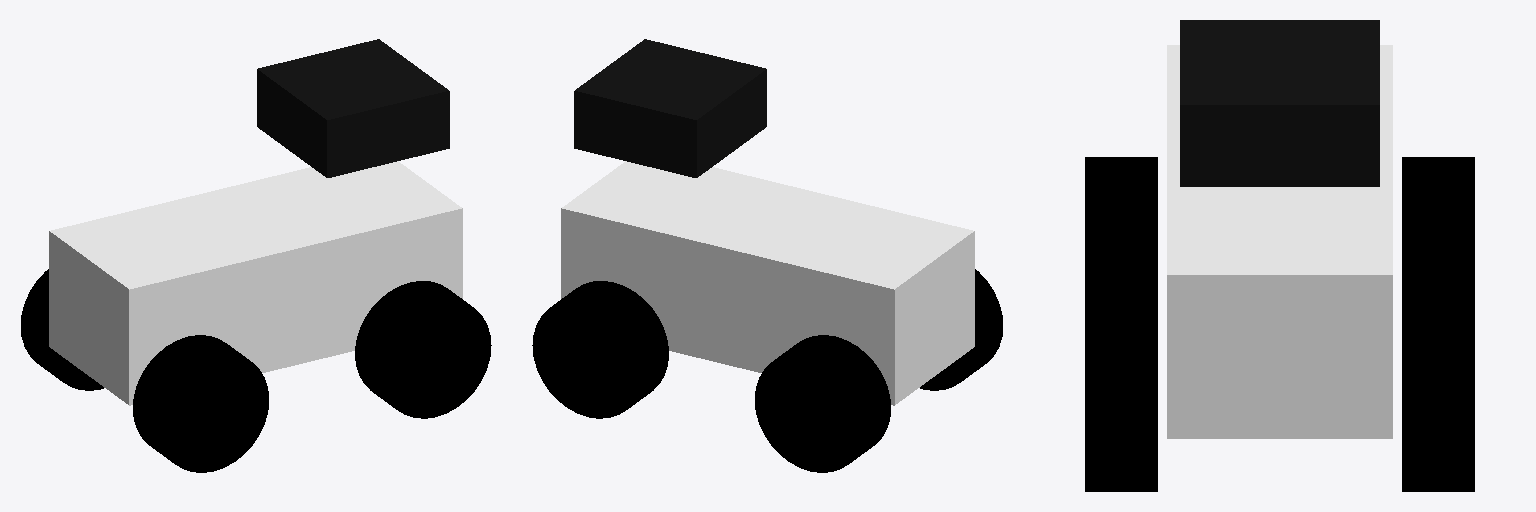
robot.urdf — mid360_robot:
<?xml version="1.0" ?>
<!-- =================================================================================== -->
<!-- |    This document was autogenerated by xacro from /home/ywj/dog_slam/LIO-SAM_MID360_ROS2_PKG/ros2/install/livox_gazebo_garden/share/livox_gazebo_garden/urdf/my_robot/my_robot.xacro | -->
<!-- |    EDITING THIS FILE BY HAND IS NOT RECOMMENDED                                 | -->
<!-- =================================================================================== -->
<robot name="mid360_robot">
  <!-- =============== base link =============== -->
  <link name="base_footprint"/>
  <link name="base_link">
    <visual>
      <origin rpy="0 0 0" xyz="0 0 0"/>
      <geometry>
        <box size="0.24 0.1 0.08"/>
      </geometry>
      <material name="base_link_mat">
        <color rgba="1.0 1.0 1.0 0.5"/>
      </material>
    </visual>
    <collision>
      <origin rpy="0 0 0" xyz="0 0 0"/>
      <geometry>
        <box size="0.24 0.1 0.08"/>
      </geometry>
      <material name="base_link_mat">
        <color rgba="1.0 1.0 1.0 0.5"/>
      </material>
    </collision>
    <inertial>
      <mass value="1.0"/>
      <origin xyz="0 0 0"/>
      <inertia ixx="0.01" ixy="0.0" ixz="0.0" iyy="0.01" iyz="0.0" izz="0.01"/>
    </inertial>
  </link>
  <joint name="base_link_joint" type="fixed">
    <parent link="base_footprint"/>
    <child link="base_link"/>
    <origin rpy="0 0 0" xyz="0 0 0.04"/>
  </joint>
  <!-- =============== base link =============== -->
  <link name="behind_left_wheel">
    <visual>
      <origin rpy="1.57079 0 0" xyz="0 0 0"/>
      <geometry>
        <cylinder length="0.032" radius="0.04"/>
      </geometry>
      <material name="behind_left_wheel_mat">
        <color rgba="0.0 0.0 0.0 1.0"/>
      </material>
    </visual>
    <collision>
      <origin rpy="1.57079 0 0" xyz="0 0 0"/>
      <geometry>
        <cylinder length="0.032" radius="0.04"/>
      </geometry>
      <material name="behind_left_wheel_mat">
        <color rgba="0.0 0.0 0.0 1.0"/>
      </material>
    </collision>
    <inertial>
      <mass value="1.0"/>
      <origin xyz="0 0 0"/>
      <inertia ixx="0.01" ixy="0.0" ixz="0.0" iyy="0.01" iyz="0.0" izz="0.01"/>
    </inertial>
  </link>
  <joint name="behind_left_wheel_joint" type="continuous">
    <parent link="base_link"/>
    <child link="behind_left_wheel"/>
    <origin rpy="0 0 0" xyz="-0.08 0.07 -0.04"/>
    <axis xyz="0 1 0"/>
  </joint>
  <link name="behind_right_wheel">
    <visual>
      <origin rpy="1.57079 0 0" xyz="0 0 0"/>
      <geometry>
        <cylinder length="0.032" radius="0.04"/>
      </geometry>
      <material name="behind_right_wheel_mat">
        <color rgba="0.0 0.0 0.0 1.0"/>
      </material>
    </visual>
    <collision>
      <origin rpy="1.57079 0 0" xyz="0 0 0"/>
      <geometry>
        <cylinder length="0.032" radius="0.04"/>
      </geometry>
      <material name="behind_right_wheel_mat">
        <color rgba="0.0 0.0 0.0 1.0"/>
      </material>
    </collision>
    <inertial>
      <mass value="1.0"/>
      <origin xyz="0 0 0"/>
      <inertia ixx="0.01" ixy="0.0" ixz="0.0" iyy="0.01" iyz="0.0" izz="0.01"/>
    </inertial>
  </link>
  <joint name="behind_right_wheel_joint" type="continuous">
    <parent link="base_link"/>
    <child link="behind_right_wheel"/>
    <origin rpy="0 0 0" xyz="-0.08 -0.07 -0.04"/>
    <axis xyz="0 1 0"/>
  </joint>
  <link name="ahead_left_wheel">
    <visual>
      <origin rpy="1.57079 0 0" xyz="0 0 0"/>
      <geometry>
        <cylinder length="0.032" radius="0.04"/>
      </geometry>
      <material name="ahead_left_wheel_mat">
        <color rgba="0.0 0.0 0.0 1.0"/>
      </material>
    </visual>
    <collision>
      <origin rpy="1.57079 0 0" xyz="0 0 0"/>
      <geometry>
        <cylinder length="0.032" radius="0.04"/>
      </geometry>
      <material name="ahead_left_wheel_mat">
        <color rgba="0.0 0.0 0.0 1.0"/>
      </material>
    </collision>
    <inertial>
      <mass value="1.0"/>
      <origin xyz="0 0 0"/>
      <inertia ixx="0.01" ixy="0.0" ixz="0.0" iyy="0.01" iyz="0.0" izz="0.01"/>
    </inertial>
  </link>
  <joint name="ahead_left_wheel_joint" type="continuous">
    <parent link="base_link"/>
    <child link="ahead_left_wheel"/>
    <origin rpy="0 0 0" xyz="0.08 0.07 -0.04"/>
    <axis xyz="0 1 0"/>
  </joint>
  <link name="ahead_right_wheel">
    <visual>
      <origin rpy="1.57079 0 0" xyz="0 0 0"/>
      <geometry>
        <cylinder length="0.032" radius="0.04"/>
      </geometry>
      <material name="ahead_right_wheel_mat">
        <color rgba="0.0 0.0 0.0 1.0"/>
      </material>
    </visual>
    <collision>
      <origin rpy="1.57079 0 0" xyz="0 0 0"/>
      <geometry>
        <cylinder length="0.032" radius="0.04"/>
      </geometry>
      <material name="ahead_right_wheel_mat">
        <color rgba="0.0 0.0 0.0 1.0"/>
      </material>
    </collision>
    <inertial>
      <mass value="1.0"/>
      <origin xyz="0 0 0"/>
      <inertia ixx="0.01" ixy="0.0" ixz="0.0" iyy="0.01" iyz="0.0" izz="0.01"/>
    </inertial>
  </link>
  <joint name="ahead_right_wheel_joint" type="continuous">
    <parent link="base_link"/>
    <child link="ahead_right_wheel"/>
    <origin rpy="0 0 0" xyz="0.08 -0.07 -0.04"/>
    <axis xyz="0 1 0"/>
  </joint>
  <!-- =============== 轮子配置 =============== -->
  <link name="livox_frame">
    <visual>
      <origin rpy="0 0 0" xyz="0 0 0"/>
      <geometry>
        <box size="0.088 0.088 0.04"/>
      </geometry>
      <material name="livox_mat">
        <color rgba="0.1 0.1 0.1 1.0"/>
      </material>
    </visual>
    <collision>
      <origin rpy="0 0 0" xyz="0 0 0"/>
      <geometry>
        <box size="0.088 0.088 0.04"/>
      </geometry>
    </collision>
    <inertial>
      <origin rpy="1.5707963 0 1.5707963" xyz="0 0 0"/>
      <mass value="0.4"/>
      <inertia ixx="0.00045333333333333337" ixy="0.0" ixz="0.0" iyy="0.00045333333333333337" iyz="0.0" izz="0.00023999999999999998"/>
    </inertial>
  </link>
  <joint name="livox_frame_joint" type="fixed">
    <parent link="base_link"/>
    <child link="livox_frame"/>
    <origin rpy="0 0 0" xyz="0.07 0.0 0.10"/>
  </joint>
  <gazebo reference="livox_frame">
    <sensor name="livox_frame_lidar" type="gpu_ray">
      <pose>0 0 0 0 0 0</pose>
      <visualize>false</visualize>
      <update_rate>10</update_rate>
      <use_strict_rate>true</use_strict_rate>
      <plugin filename="liblivox_garden_gpu_laser.so" name="livox_frame_plugin">
        <visualize>false</visualize>
        <frameName>livox_frame</frameName>
        <samples>20000</samples>
        <downsample>1</downsample>
        <csv_file_name>package://livox_gazebo_garden/scan_mode/mid360.csv</csv_file_name>
        <topic>/livox/lidar</topic>
      </plugin>
      <ray>
        <scan>
          <horizontal>
            <samples>360</samples>
            <resolution>1</resolution>
            <min_angle>0</min_angle>
            <max_angle>6.2831852</max_angle>
          </horizontal>
          <vertical>
            <samples>60</samples>
            <resolution>1</resolution>
            <min_angle>-0.12601276984444446</min_angle>
            <max_angle>0.9637707965111111</max_angle>
          </vertical>
        </scan>
        <range>
          <min>0.1</min>
          <max>100.0</max>
          <resolution>0.005</resolution>
        </range>
        <noise>
          <type>gaussian</type>
          <mean>0.0</mean>
          <stddev>0.002</stddev>
        </noise>
      </ray>
    </sensor>
    <sensor name="livox_frame_imu" type="imu">
      <pose>0 0 0 0 0 0</pose>
      <always_on>true</always_on>
      <update_rate>200</update_rate>
      <visualize>false</visualize>
      <topic>/livox/imu</topic>
      <imu>
        <angular_velocity>
          <x>
            <noise type="gaussian">
              <mean>0.0</mean>
              <stddev>0.0002</stddev>
            </noise>
          </x>
          <y>
            <noise type="gaussian">
              <mean>0.0</mean>
              <stddev>0.0002</stddev>
            </noise>
          </y>
          <z>
            <noise type="gaussian">
              <mean>0.0</mean>
              <stddev>0.0002</stddev>
            </noise>
          </z>
        </angular_velocity>
        <linear_acceleration>
          <x>
            <noise type="gaussian">
              <mean>0.0</mean>
              <stddev>0.017</stddev>
            </noise>
          </x>
          <y>
            <noise type="gaussian">
              <mean>0.0</mean>
              <stddev>0.017</stddev>
            </noise>
          </y>
          <z>
            <noise type="gaussian">
              <mean>0.0</mean>
              <stddev>0.017</stddev>
            </noise>
          </z>
        </linear_acceleration>
      </imu>
      <plugin filename="gz-sim-imu-system" name="gz::sim::systems::Imu">
        </plugin>
    </sensor>
  </gazebo>
  <!-- =============== mid360 ============ -->
  <!-- =============== 导入gazebo插件 ============ -->
  <!-- <gazebo reference="camera_link">
    <sensor type="depth" name="camera_sensor">
        <plugin name="depth_camera" filename="libgazebo_ros_camera.so">
            <frame_name>camera_optical_link</frame_name>
        </plugin>
        <always_on>true</always_on>
        <update_rate>10</update_rate>
        <camera name="camera">
            <horizontal_fov>1.5009831567</horizontal_fov>
            <image>
                <width>800</width>
                <height>600</height>
                <format>R8G8B8</format>
            </image>
            <distortion>
                <k1>0.0</k1>
                <k2>0.0</k2>
                <k3>0.0</k3>
                <p1>0.0</p1>
                <p2>0.0</p2>
                <center>0.5 0.5</center>
            </distortion>
        </camera>
    </sensor>
</gazebo> -->
  <!-- =============== 导入gazebo插件 ============ -->
  <!-- =============== 使用插件 ============ -->
  <gazebo>
    <plugin filename="gz-sim-diff-drive-system" name="gz::sim::systems::DiffDrive">
      <left_joint>behind_left_wheel_joint</left_joint>
      <right_joint>behind_right_wheel_joint</right_joint>
      <wheel_separation>0.14</wheel_separation>
      <wheel_radius>0.04</wheel_radius>
      <topic>/cmd_vel</topic>
    </plugin>
  </gazebo>
  <!-- 独立的IMU传感器已被移除，使用mid360激光雷达内置的IMU -->
</robot>

--- Render facts (derived) ---
The picture shows the robot from 3 angles, left to right: view 1: azimuth 30°, elevation 25°; view 2: azimuth 150°, elevation 25°; view 3: azimuth 270°, elevation 25°; orthographic projection.
Model mid360_robot with 7 links and 6 joints (4 continuous, 2 fixed), rooted at base_footprint, posed all joints at 0.
Visible links, largest first — view 1: base_link, livox_frame, behind_right_wheel, ahead_right_wheel, behind_left_wheel; view 2: base_link, livox_frame, behind_left_wheel, ahead_left_wheel, behind_right_wheel; view 3: base_link, livox_frame, ahead_left_wheel, ahead_right_wheel, behind_left_wheel, behind_right_wheel.
Boxes of the visible links, <box> form: base_link: <box>49,161,462,405</box>; livox_frame: <box>257,39,449,177</box>; behind_right_wheel: <box>133,335,268,472</box>; ahead_right_wheel: <box>355,281,491,418</box>; behind_left_wheel: <box>21,269,103,390</box>; base_link: <box>561,161,974,405</box>; livox_frame: <box>574,39,766,177</box>; behind_left_wheel: <box>755,335,890,472</box>; ahead_left_wheel: <box>532,281,668,418</box>; behind_right_wheel: <box>920,269,1002,390</box>; base_link: <box>1167,45,1392,438</box>; livox_frame: <box>1180,20,1379,186</box>; ahead_left_wheel: <box>1402,310,1474,491</box>; ahead_right_wheel: <box>1085,310,1157,491</box>; behind_left_wheel: <box>1402,157,1474,309</box>; behind_right_wheel: <box>1085,157,1157,309</box>.
Size in the robot's own frame: 0.24 by 0.172 by 0.2 metres.
Geometry: primitives only (box / cylinder / sphere), no mesh files.
